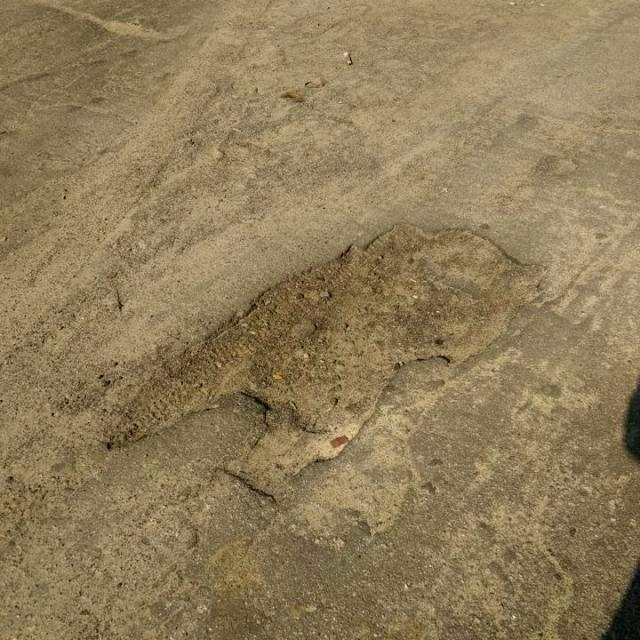Pothole: (98, 216, 553, 506)
